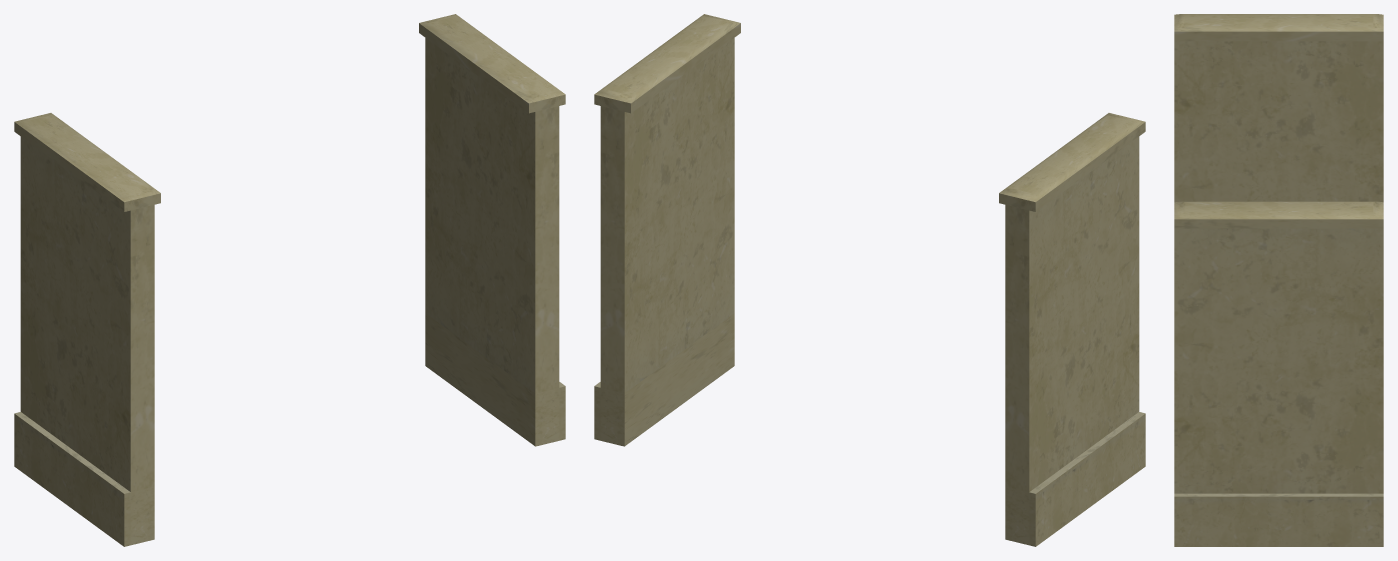
File: Stairs_Rails_Marble_Straight_1.gltf
3 views of the same model, side by side, from view 1: azimuth 30°, elevation 25°; view 2: azimuth 150°, elevation 25°; view 3: azimuth 270°, elevation 25° (orthographic). The views are drawn at different scales.
Parts seen in each view (by area): view 1: Stairs_Rails_Marble_Straight_1; view 2: Stairs_Rails_Marble_Straight_1; view 3: Stairs_Rails_Marble_Straight_1.
Boxes of the visible parts, x1=… form: Stairs_Rails_Marble_Straight_1: x1=14, y1=14, x2=565, y2=546; Stairs_Rails_Marble_Straight_1: x1=594, y1=14, x2=1145, y2=546; Stairs_Rails_Marble_Straight_1: x1=1174, y1=14, x2=1383, y2=546.
Bounding box in the file's own units: 2.32 × 1.74 × 1.
1 material, 1 textured.
